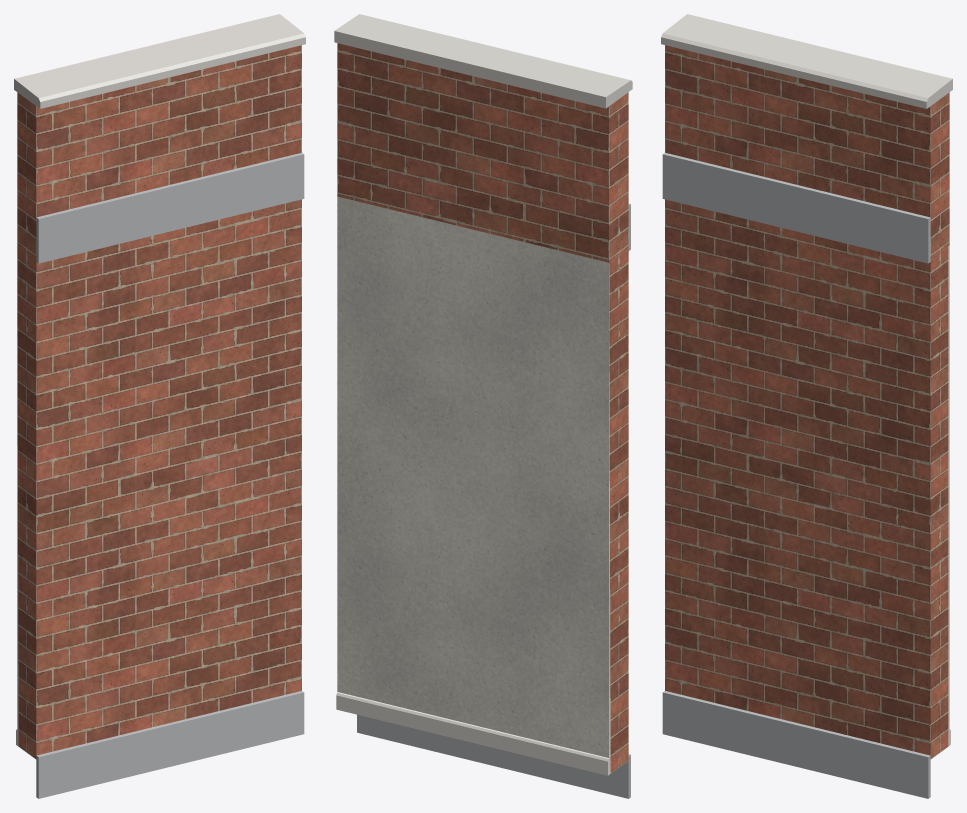
Rendered from pu_plain_e.glb.
3 renders of one model, left to right at view 1: azimuth 30°, elevation 25°; view 2: azimuth 150°, elevation 25°; view 3: azimuth 330°, elevation 25°, orthographic. The views are drawn at different scales.
Parts seen in each view (by area): view 1: pu_plain_e_brick, pu_plain_e_band, pu_plain_e_cill, pu_plain_e_plaster; view 2: pu_plain_e_plaster, pu_plain_e_brick, pu_plain_e_cill, pu_plain_e_band, pu_plain_e_trim; view 3: pu_plain_e_brick, pu_plain_e_band, pu_plain_e_cill, pu_plain_e_plaster.
Boxes of the visible parts, <box> form: pu_plain_e_brick: <box>17,45,301,759</box>; pu_plain_e_band: <box>36,152,304,798</box>; pu_plain_e_cill: <box>14,14,305,108</box>; pu_plain_e_plaster: <box>17,337,18,746</box>; pu_plain_e_plaster: <box>337,196,610,774</box>; pu_plain_e_brick: <box>337,43,628,773</box>; pu_plain_e_cill: <box>334,14,632,108</box>; pu_plain_e_band: <box>357,203,630,798</box>; pu_plain_e_trim: <box>336,692,608,775</box>; pu_plain_e_brick: <box>665,45,949,759</box>; pu_plain_e_band: <box>662,152,930,798</box>; pu_plain_e_cill: <box>661,14,952,108</box>; pu_plain_e_plaster: <box>948,245,949,746</box>.
Size of the model in its own units: 2 by 5.05 by 0.34.
Materials: 5 (2 with a texture image).
